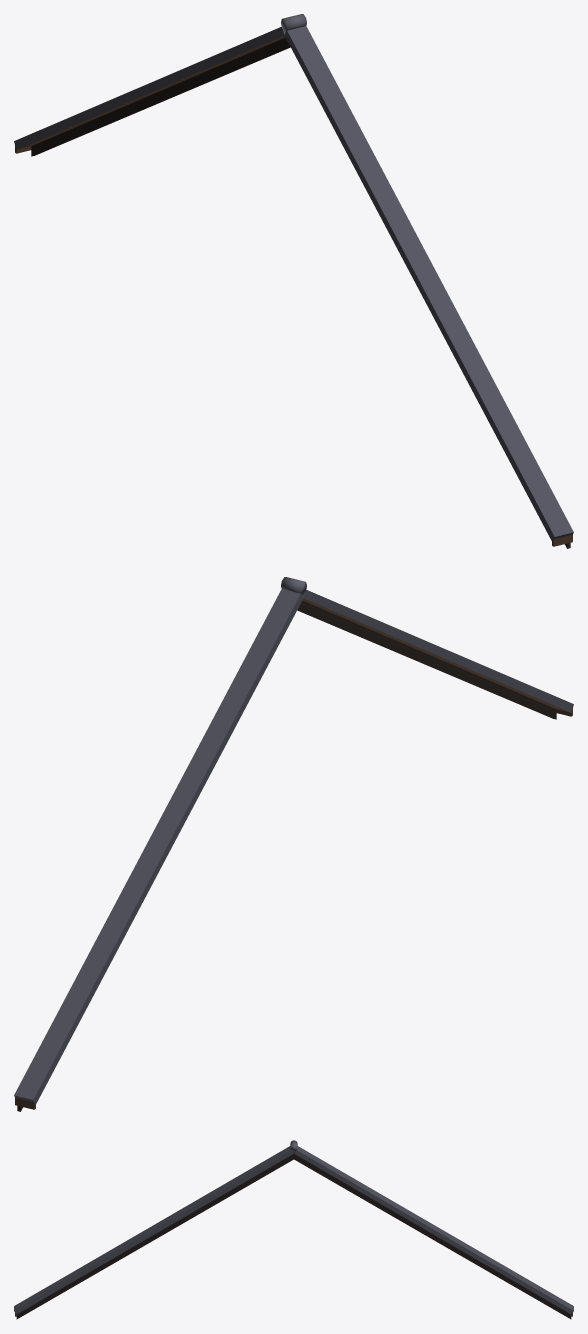
Rendered from kit_timber_slate_w10_end.glb.
3 views of the same model, one above another, from view 1: azimuth 30°, elevation 25°; view 2: azimuth 150°, elevation 25°; view 3: azimuth 270°, elevation 25° (orthographic). The views are drawn at different scales.
Parts seen in each view (by area): view 1: kit_timber_slate_w10_end; view 2: kit_timber_slate_w10_end; view 3: kit_timber_slate_w10_end.
Boxes of the visible parts, x1,y1,x2,y2 form: kit_timber_slate_w10_end: [14, 14, 573, 548]; kit_timber_slate_w10_end: [14, 577, 573, 1111]; kit_timber_slate_w10_end: [14, 1140, 573, 1319].
Bounding box in the file's own units: 0.22 × 3.68 × 10.7.
